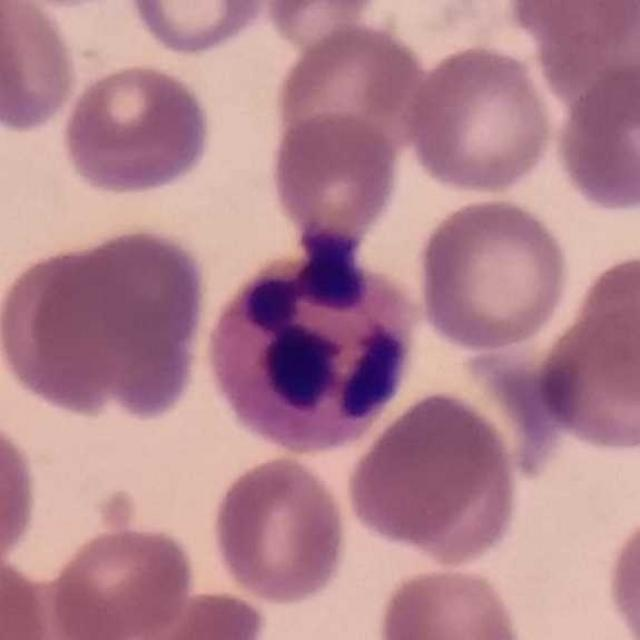Neutrophil: (207, 233, 427, 458)
RBC: (10, 224, 214, 421), (341, 386, 524, 567), (413, 194, 574, 353), (399, 40, 558, 198), (268, 17, 431, 167), (207, 452, 353, 609), (58, 60, 216, 200), (533, 277, 640, 460), (265, 108, 405, 247), (45, 521, 197, 640), (551, 59, 640, 219), (508, 0, 640, 104), (372, 561, 528, 640), (572, 247, 640, 412), (0, 0, 80, 137), (123, 0, 275, 59), (110, 585, 273, 640), (260, 0, 390, 55), (0, 409, 42, 574), (601, 504, 640, 640), (0, 548, 54, 640), (3, 0, 138, 12)
